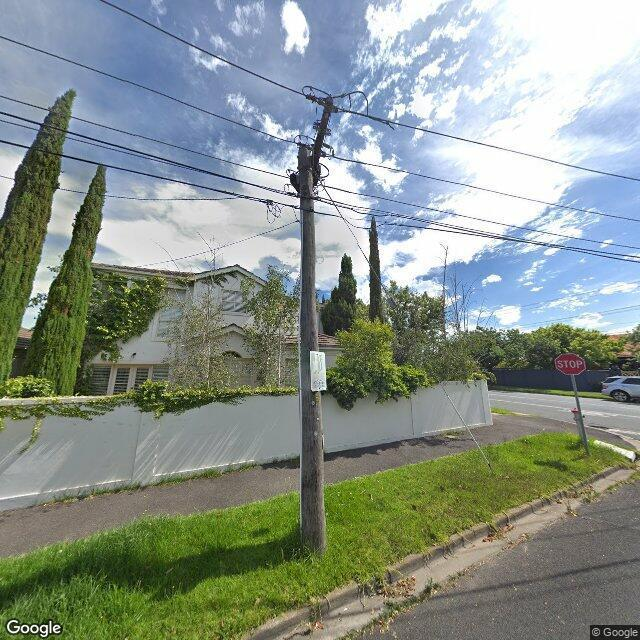crossarm: (301, 84, 370, 187)
timber-pole: (299, 145, 326, 551)
